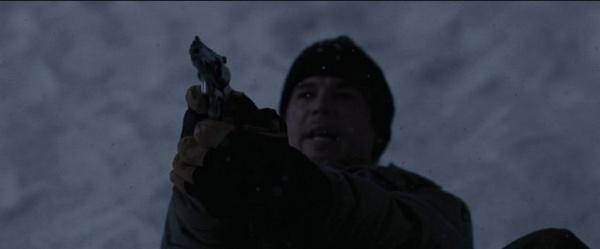Gun: (188, 35, 233, 100)
